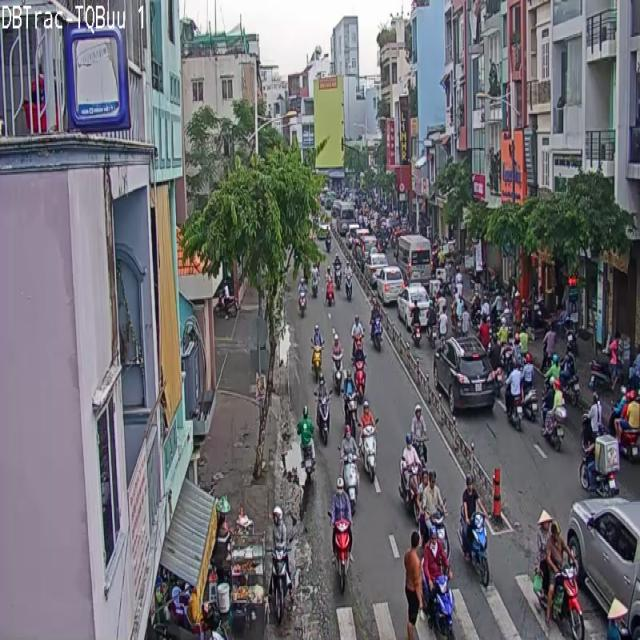car: (461, 475, 489, 585), (333, 508, 351, 590), (360, 401, 376, 479), (336, 489, 346, 499)
traffic-light: (566, 499, 639, 627), (434, 337, 496, 415), (398, 283, 429, 331)
